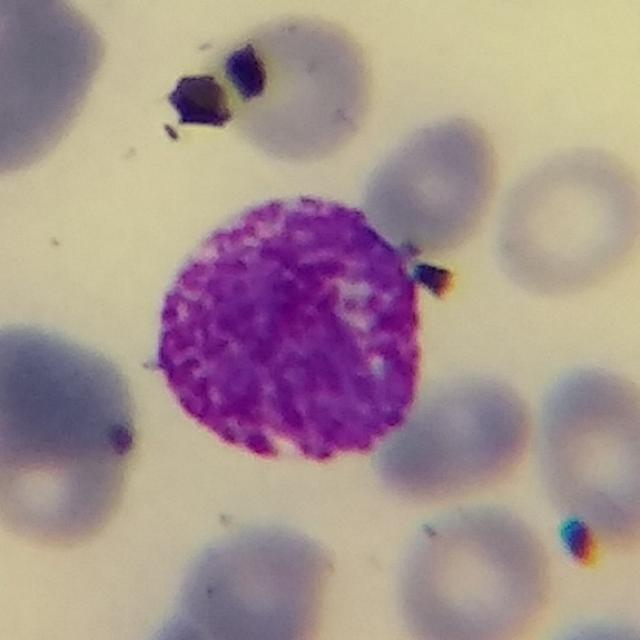Basophil: (130, 174, 448, 488)
Platelets: (159, 66, 239, 142), (219, 41, 272, 104), (555, 513, 601, 569), (410, 259, 460, 303)
RBC: (0, 314, 151, 560), (204, 6, 382, 167), (487, 136, 640, 303), (369, 366, 543, 510), (388, 497, 558, 640), (358, 108, 508, 257), (0, 0, 117, 185), (528, 358, 640, 551), (177, 516, 341, 640), (523, 611, 640, 640)
